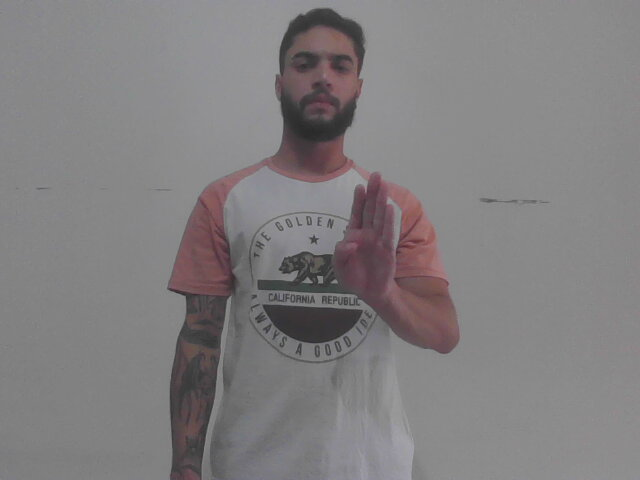b: (331, 168, 402, 301)
